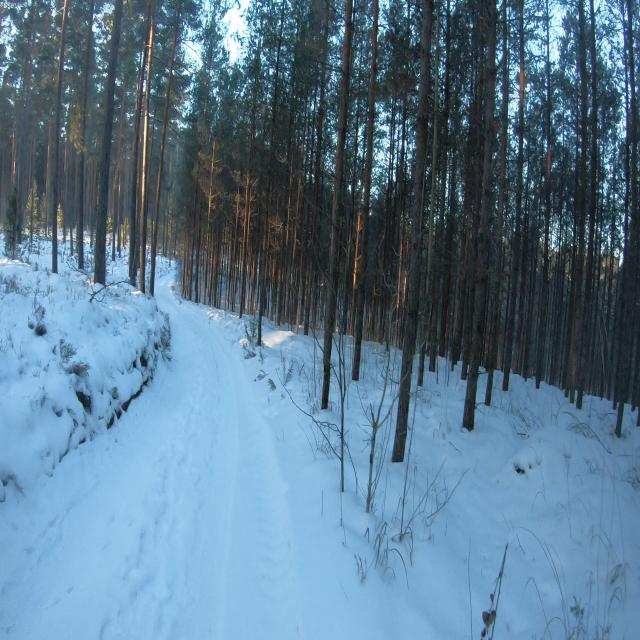bush: (366, 379, 386, 513), (336, 334, 347, 492), (4, 185, 21, 259)
trees: (392, 0, 432, 463), (463, 0, 496, 430), (322, 0, 352, 409), (616, 0, 640, 438), (352, 0, 378, 381), (149, 0, 181, 296), (258, 0, 284, 342), (485, 35, 508, 405), (94, 0, 123, 285), (503, 47, 524, 391), (571, 0, 587, 408), (129, 3, 151, 286), (239, 38, 261, 318), (536, 12, 551, 388), (452, 125, 475, 364), (582, 43, 597, 375), (77, 0, 95, 269), (52, 0, 68, 273), (140, 2, 155, 292), (463, 124, 480, 379), (425, 26, 439, 305), (19, 0, 40, 179), (310, 46, 327, 258), (394, 89, 407, 346), (439, 162, 455, 356), (278, 151, 293, 324), (201, 138, 216, 303), (550, 209, 564, 382), (382, 97, 395, 280), (516, 196, 528, 373), (349, 86, 360, 243), (229, 186, 240, 311), (188, 187, 198, 301), (112, 141, 121, 261), (292, 174, 302, 277), (518, 0, 525, 143), (607, 209, 615, 325), (118, 146, 126, 257), (200, 47, 212, 121), (147, 108, 156, 206), (43, 122, 50, 237), (29, 138, 36, 250), (476, 23, 484, 117), (599, 151, 606, 257), (87, 161, 97, 231), (304, 259, 313, 335), (209, 219, 217, 304), (64, 138, 71, 224), (420, 313, 429, 376), (445, 0, 450, 105), (181, 232, 189, 297), (195, 210, 200, 303), (162, 207, 167, 254), (321, 15, 328, 45), (18, 181, 24, 215), (168, 221, 172, 266), (518, 145, 523, 178), (608, 325, 612, 358), (119, 107, 123, 139), (607, 366, 612, 377), (148, 211, 151, 224), (302, 139, 304, 158), (148, 231, 151, 241)
